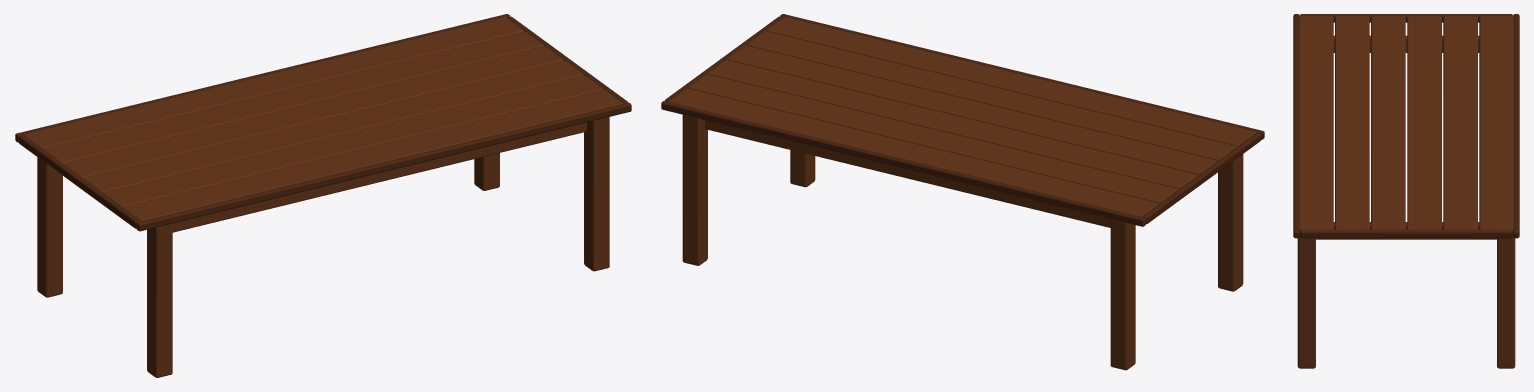
Rendered from teak-dining-table-lod1.glb.
3 views of the same model, side by side, from view 1: azimuth 30°, elevation 25°; view 2: azimuth 150°, elevation 25°; view 3: azimuth 270°, elevation 25° (orthographic). The views are drawn at different scales.
Parts seen in each view (by area): view 1: Oiled teak, Teak end grain; view 2: Oiled teak, Teak end grain; view 3: Oiled teak, Teak end grain.
Boxes of the visible parts, left/top/right/bottom form: Oiled teak: left=23, top=17, right=623, bottom=377; Teak end grain: left=15, top=14, right=631, bottom=231; Oiled teak: left=669, top=17, right=1256, bottom=370; Teak end grain: left=661, top=14, right=1264, bottom=226; Oiled teak: left=1297, top=16, right=1515, bottom=368; Teak end grain: left=1293, top=14, right=1519, bottom=238.
Size of the model in its own units: 2.44 by 0.762 by 1.07.
